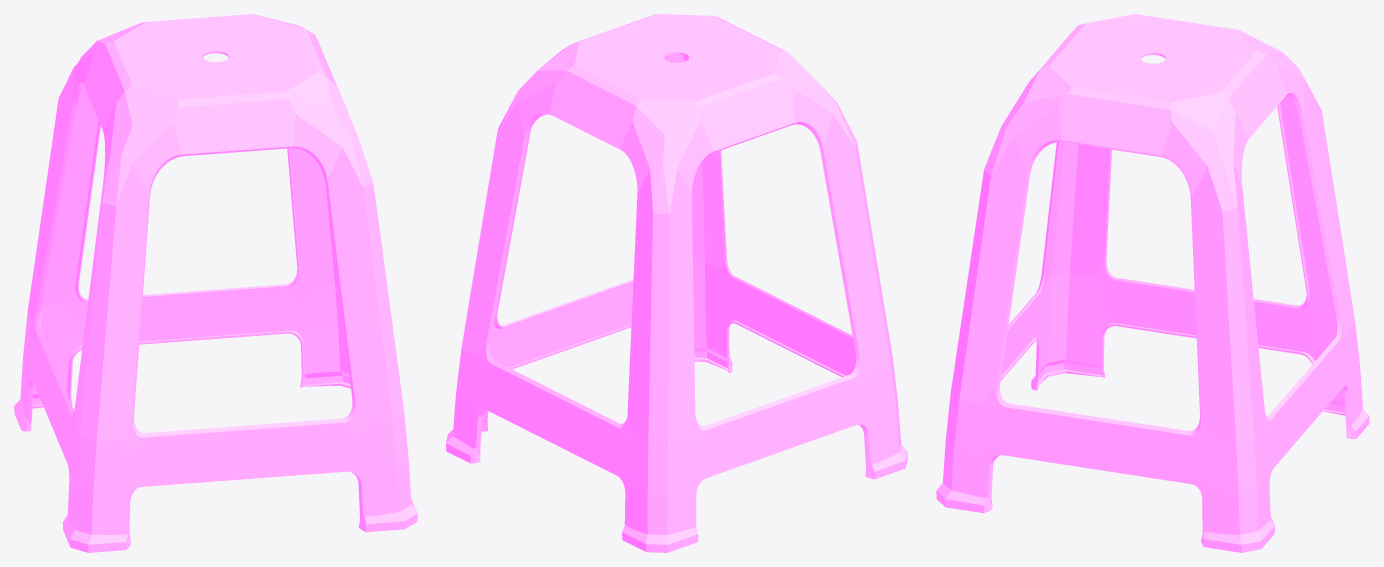
The model's file is addChair.glb.
The picture shows the model from 3 angles, left to right: view 1: azimuth 30°, elevation 25°; view 2: azimuth 150°, elevation 25°; view 3: azimuth 270°, elevation 25°; orthographic projection. The views are drawn at different scales.
Parts seen in each view (by area): view 1: chair_1; view 2: chair_1; view 3: chair_1.
Boxes of the visible parts, box(x1,y1,x2,y2) form: chair_1: box(14, 14, 417, 552); chair_1: box(446, 14, 907, 552); chair_1: box(936, 14, 1369, 552).
Size of the model in its own units: 1.1 by 1.13 by 1.1.
